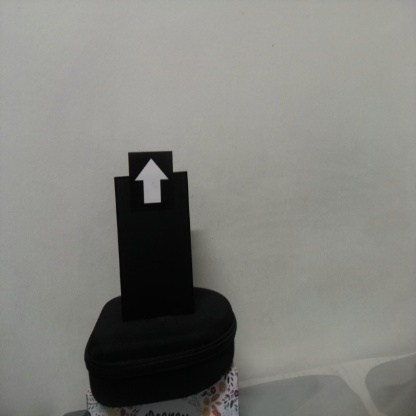id_1: (128, 153, 173, 215)
